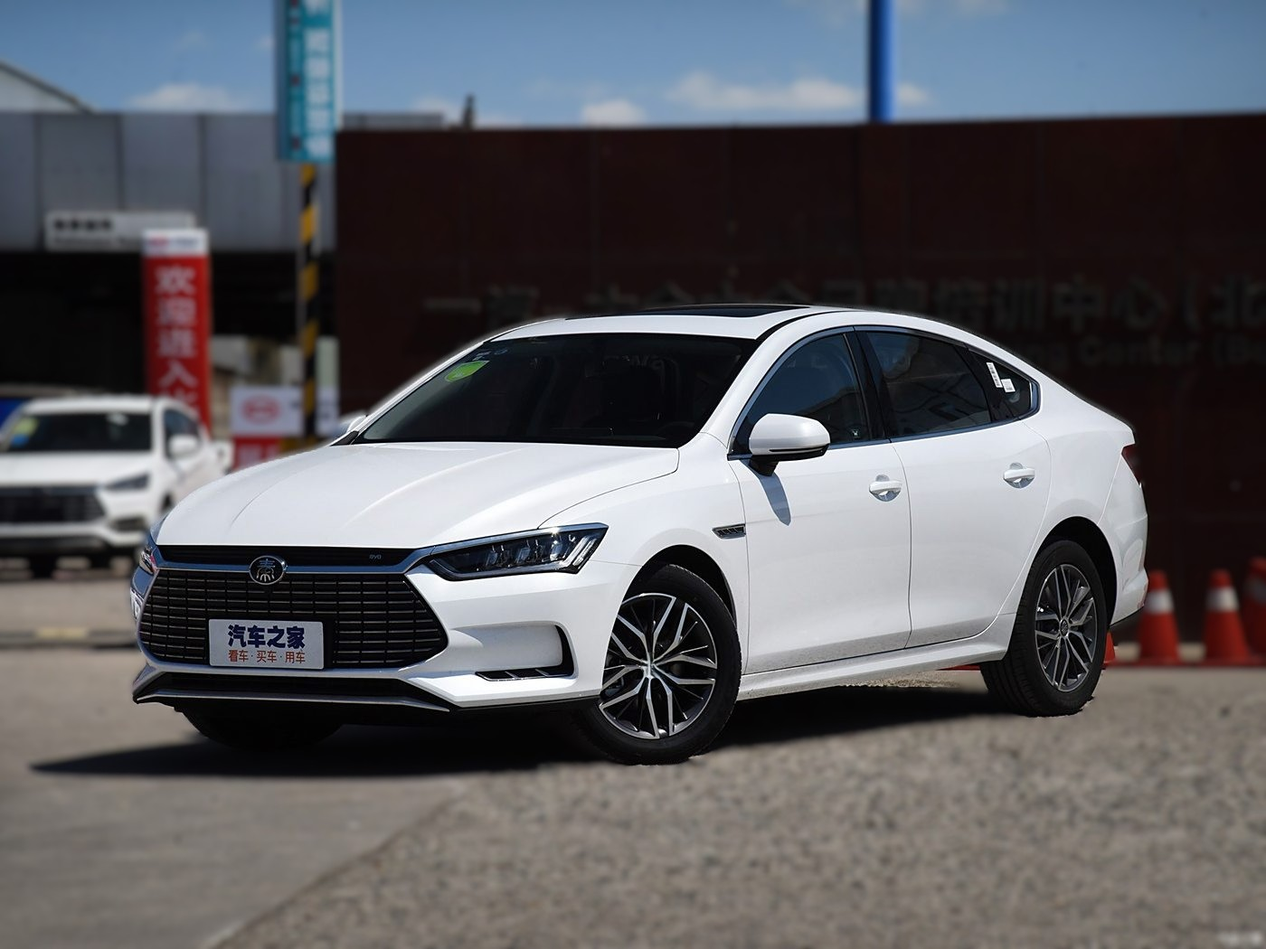BYD Qin: (250, 556, 285, 585)
